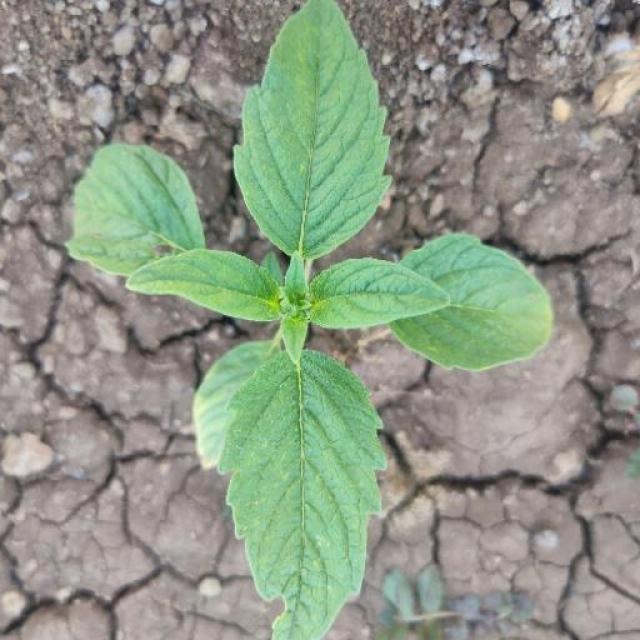crop: (74, 4, 571, 640)
